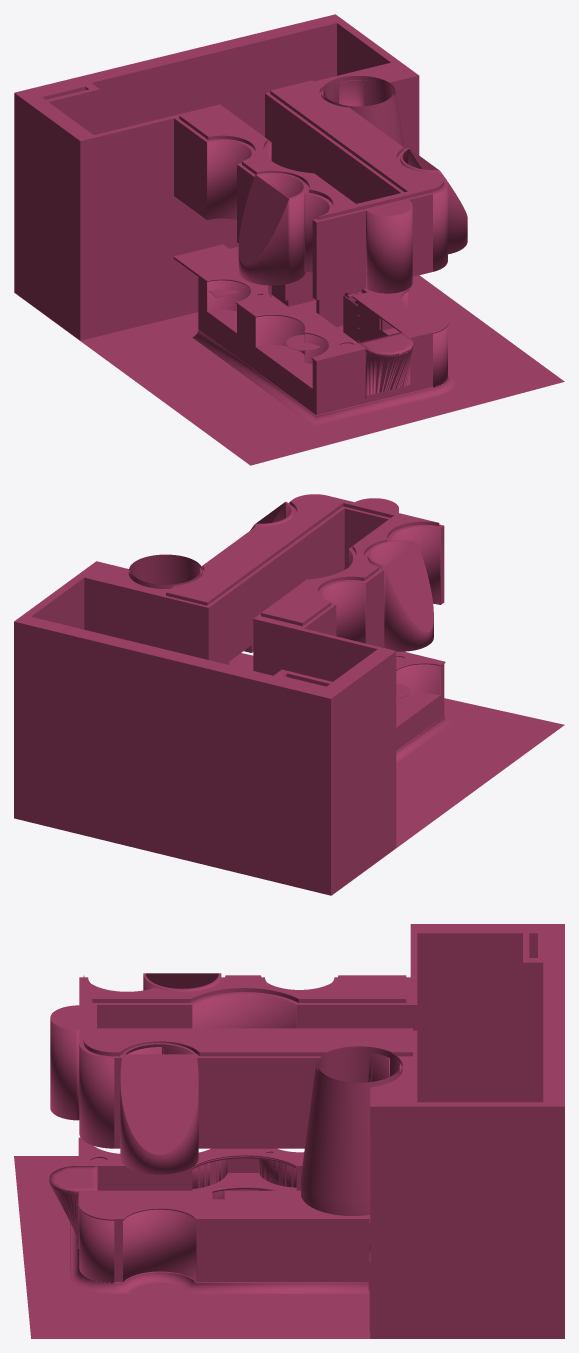
Rendered from asset.glb.
3 views of the same model, one above another, from view 1: azimuth 30°, elevation 25°; view 2: azimuth 150°, elevation 25°; view 3: azimuth 270°, elevation 25° (orthographic). The views are drawn at different scales.
Visible parts, largest first — view 1: MC_Structure, G-__556320, Sketchup, G-__556257, G-__556347, G-__556275, G-__556311, G-__556356, G-__556365, G-__556284, G-__556302, G-__556338 (+1 smaller); view 2: MC_Structure, G-__556320, Sketchup, G-__556275, G-__556257, G-__556338, G-__556347, G-__556365, G-__556356, G-__556311, G-__556266; view 3: MC_Structure, G-__556320, Sketchup, G-__556347, G-__556365, G-__556266, G-__556311, G-__556302, G-__556356, G-__556284, G-__556338, G-__556275 (+1 smaller).
Part boxes in pixels (bbox=[...]): MC_Structure: bbox=[14, 14, 419, 340]; G-__556320: bbox=[174, 80, 447, 300]; Sketchup: bbox=[14, 200, 564, 465]; G-__556257: bbox=[94, 104, 222, 336]; G-__556347: bbox=[198, 276, 447, 415]; G-__556275: bbox=[238, 172, 305, 285]; G-__556311: bbox=[173, 244, 448, 362]; G-__556356: bbox=[192, 329, 455, 426]; G-__556365: bbox=[321, 76, 404, 147]; G-__556284: bbox=[358, 332, 413, 398]; G-__556302: bbox=[258, 272, 399, 347]; G-__556338: bbox=[314, 62, 411, 149]; MC_Structure: bbox=[14, 561, 396, 895]; G-__556320: bbox=[161, 494, 444, 664]; Sketchup: bbox=[229, 498, 564, 895]; G-__556275: bbox=[367, 540, 433, 651]; G-__556257: bbox=[253, 617, 379, 681]; G-__556338: bbox=[84, 563, 169, 648]; G-__556347: bbox=[396, 664, 444, 750]; G-__556365: bbox=[128, 554, 202, 588]; G-__556356: bbox=[396, 716, 453, 763]; G-__556311: bbox=[246, 651, 445, 670]; G-__556266: bbox=[250, 501, 293, 530]; MC_Structure: bbox=[370, 924, 564, 1338]; G-__556320: bbox=[79, 975, 417, 1148]; Sketchup: bbox=[14, 1005, 370, 1338]; G-__556347: bbox=[79, 1159, 369, 1290]; G-__556365: bbox=[301, 1047, 402, 1215]; G-__556266: bbox=[120, 1043, 198, 1174]; G-__556311: bbox=[78, 1137, 370, 1220]; G-__556302: bbox=[90, 1152, 302, 1199]; G-__556356: bbox=[70, 1223, 368, 1293]; G-__556284: bbox=[49, 1166, 97, 1248]; G-__556338: bbox=[370, 1058, 417, 1102]; G-__556275: bbox=[143, 973, 221, 991].
Size of the model in its own units: 4.98 by 3 by 6.34.
